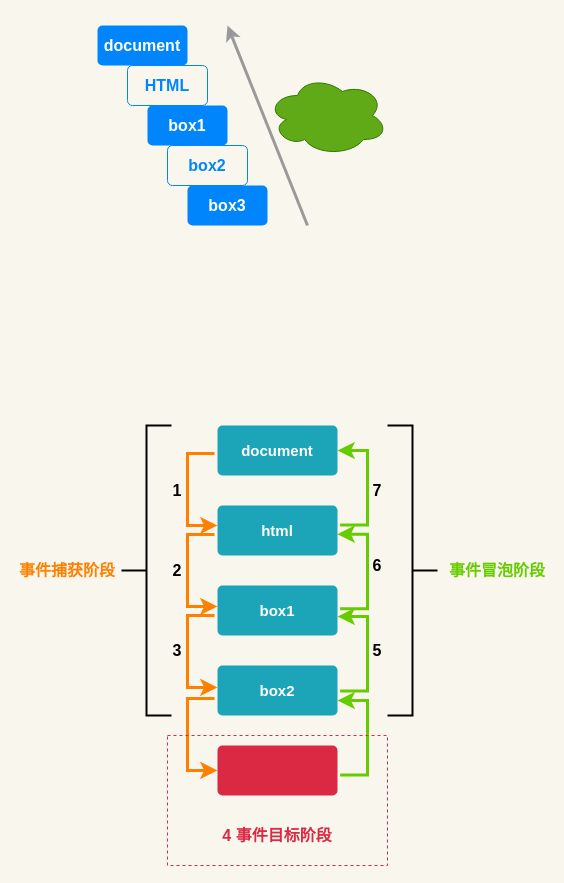
This 564x883 diagram has some shape labels left out. The centre of each missing label's shape, as x and y in pixels:
box3(目标): pixel 277 770
从里往外: pixel 327 115
